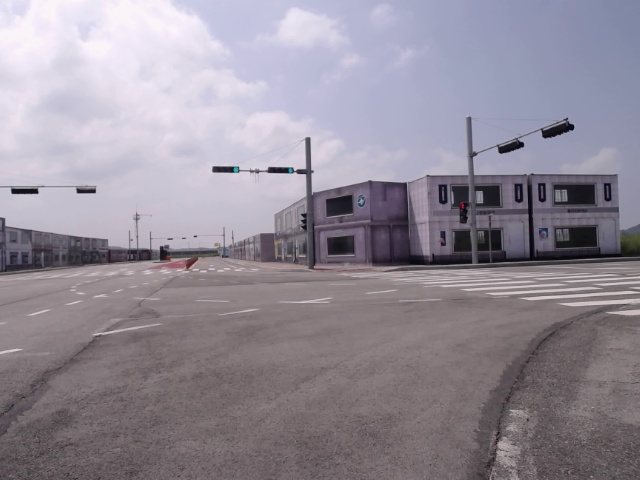straight_green_4: (212, 166, 240, 173), (269, 167, 294, 174)
